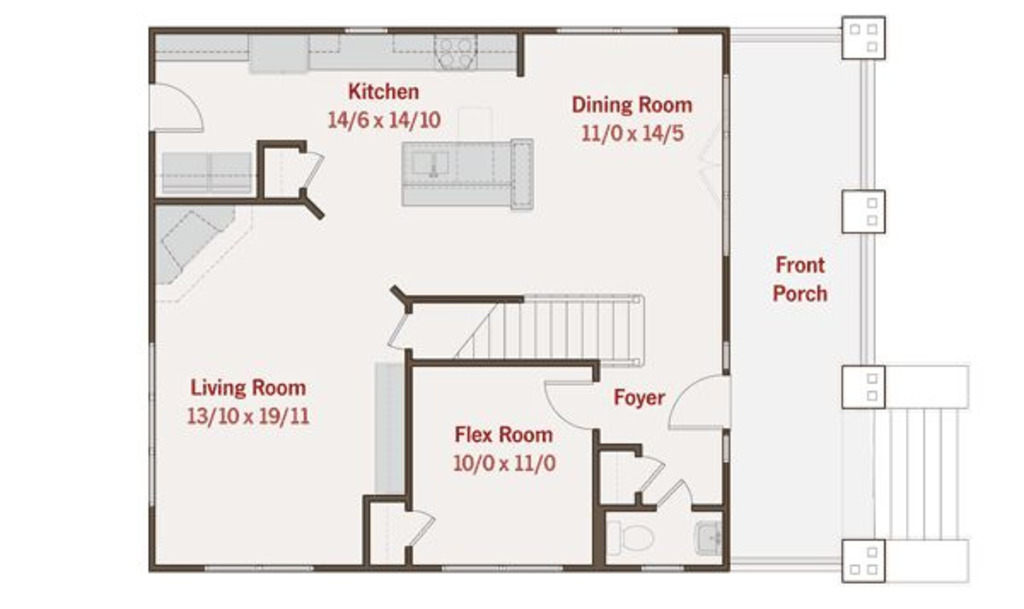door: (666, 377, 735, 432), (150, 81, 216, 137), (538, 380, 597, 432), (650, 476, 712, 517), (294, 145, 328, 190), (388, 303, 418, 348), (632, 450, 665, 489), (407, 507, 436, 547)
kitchen_bar: (375, 124, 551, 227)
large_sink: (602, 513, 665, 557)
small_sink: (685, 516, 724, 561)
stairs: (418, 294, 664, 371)
